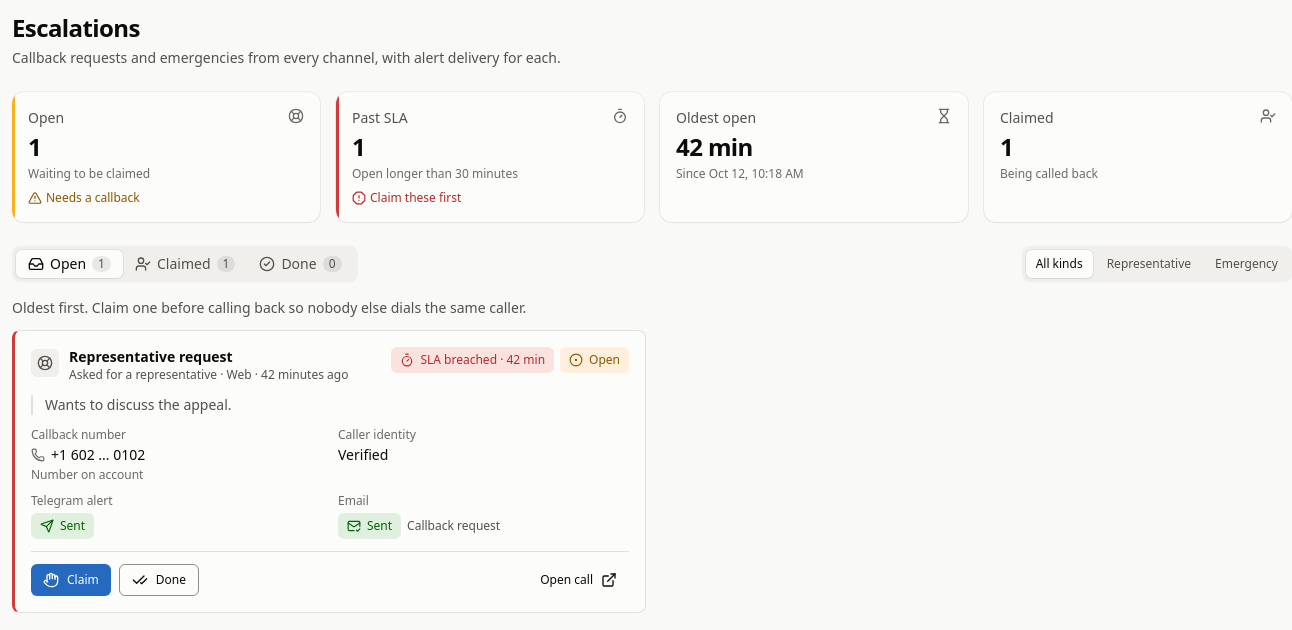
Escalations › filters by kind and explains when the filter hides everything
Expected: the list named "Open escalations, oldest first" is shown, [12, 330, 646, 613]
Click the button "Emergency": (1246,264) [1205, 250, 1288, 278]
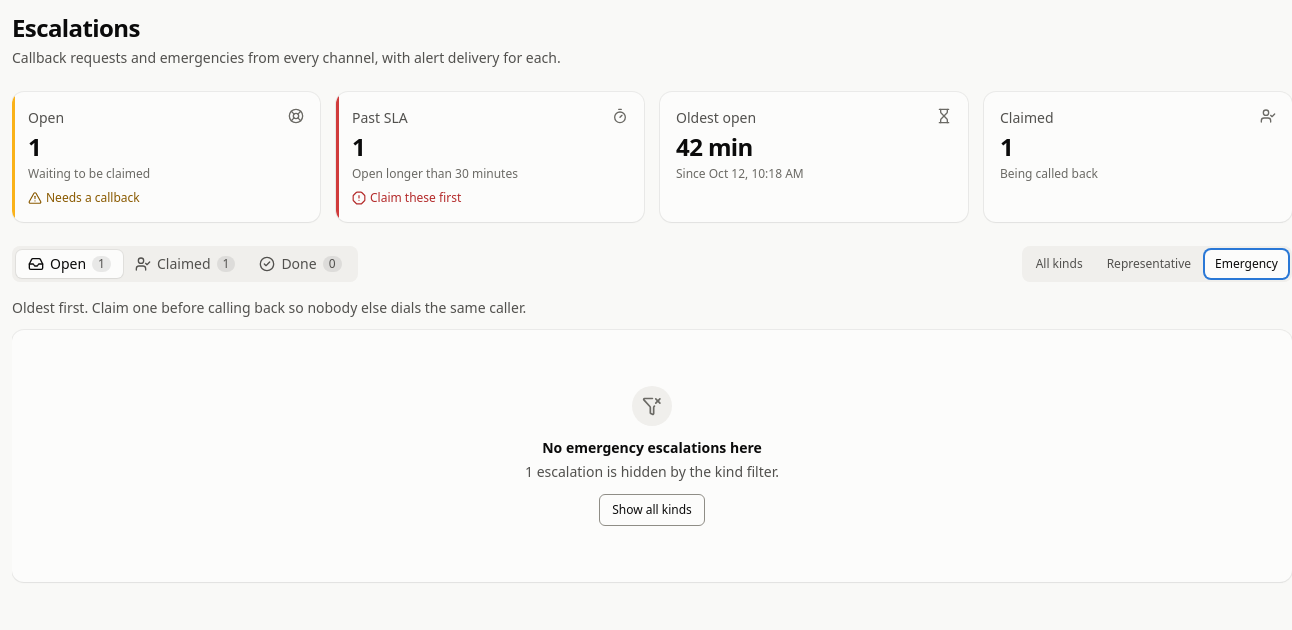
Expected: the text "No emergency escalations here" is shown, [525, 438, 779, 458]
Click the button "Show all kinds": (652,510) [599, 494, 705, 526]
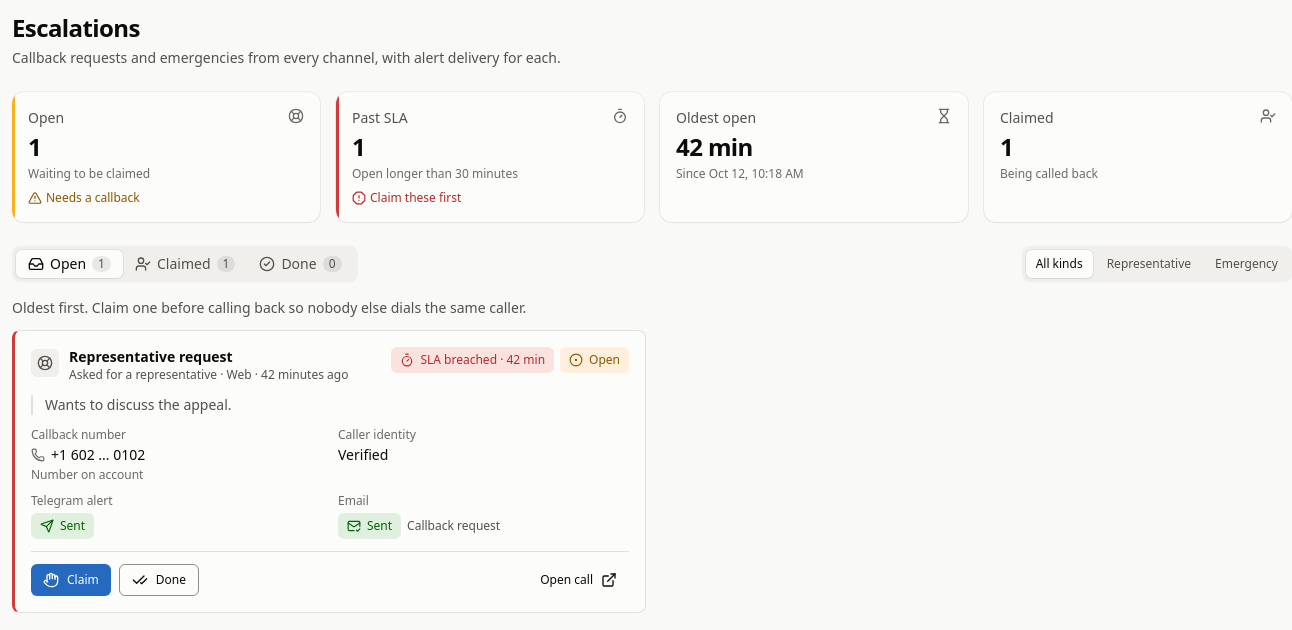
Expected: the list named "Open escalations, oldest first" is shown, [12, 330, 646, 613]
